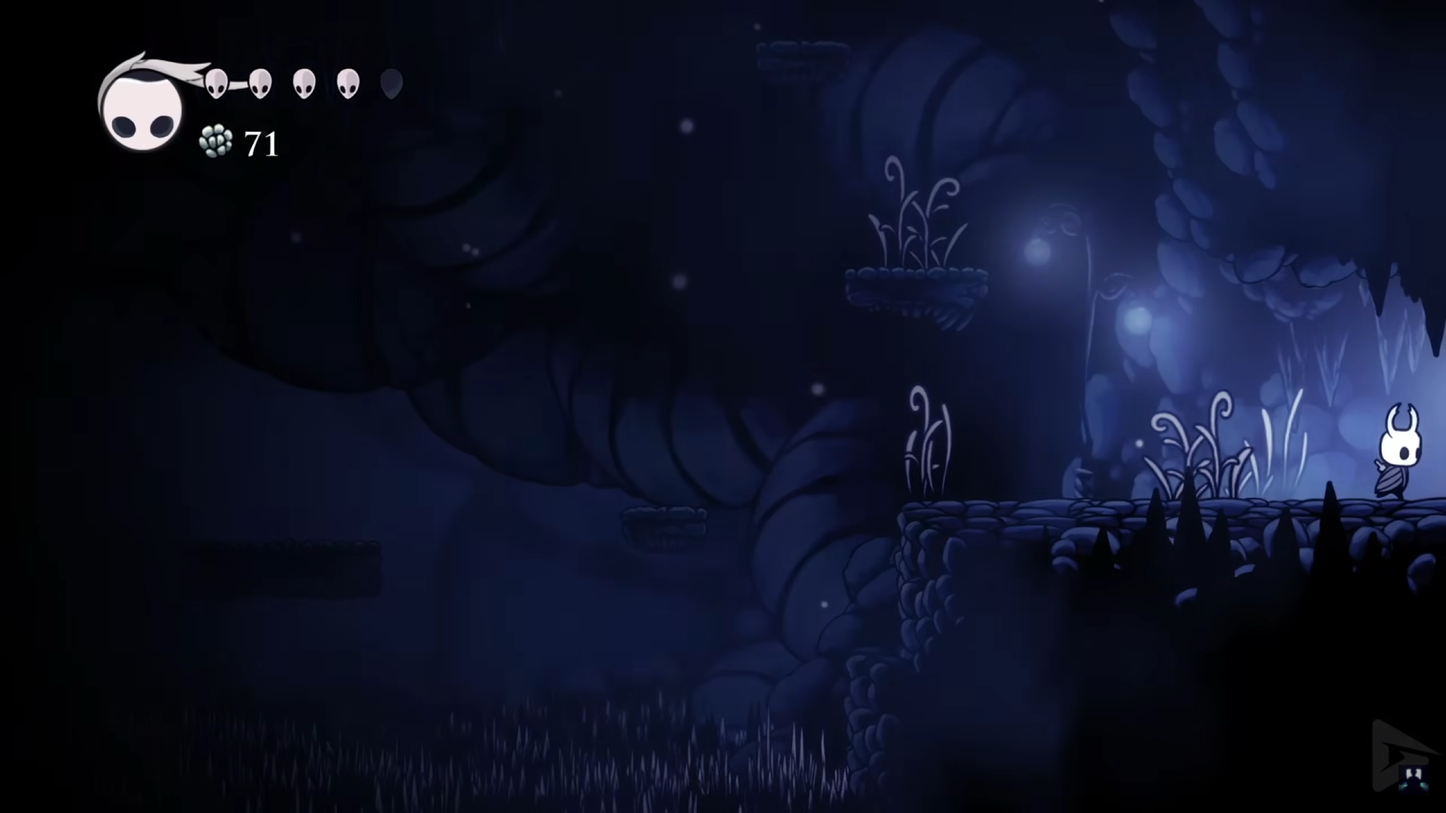HK: (1373, 388, 1427, 504)
